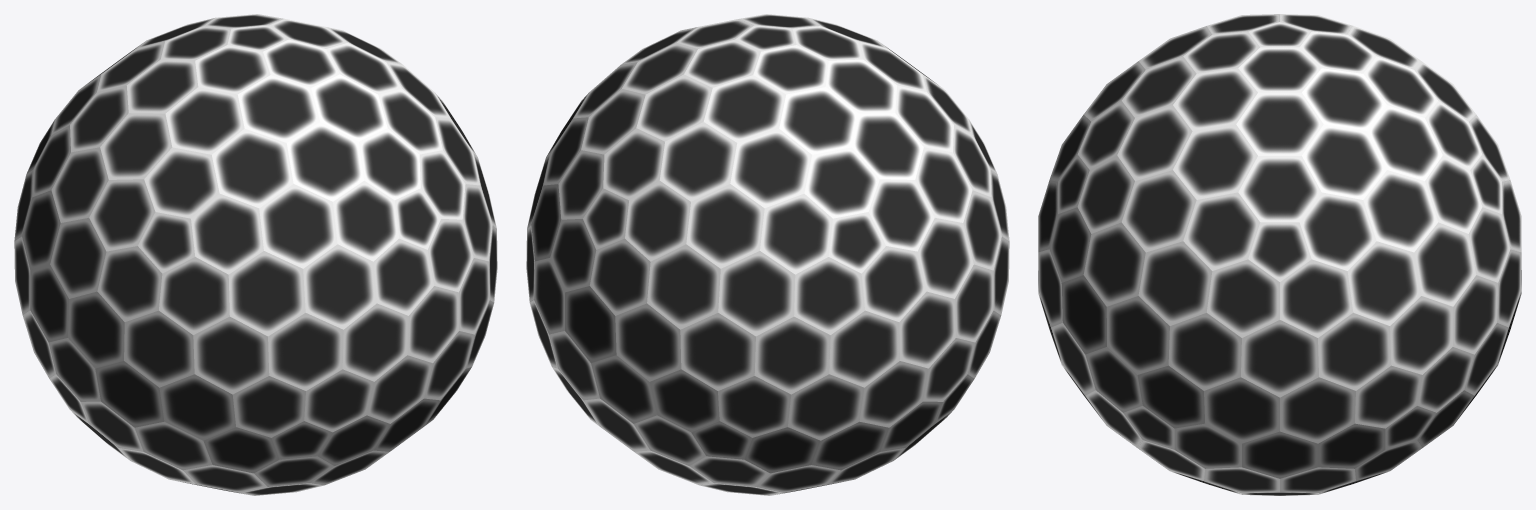
The model's file is Shield.fbx.
The picture shows the model from 3 angles, left to right: view 1: azimuth 30°, elevation 25°; view 2: azimuth 150°, elevation 25°; view 3: azimuth 270°, elevation 25°; orthographic projection.
Visible parts, largest first — view 1: Shield; view 2: Shield; view 3: Shield.
Boxes of the visible parts, x1=… form: Shield: x1=14, y1=14, x2=497, y2=495; Shield: x1=526, y1=14, x2=1009, y2=495; Shield: x1=1038, y1=14, x2=1521, y2=495.
Bounding box in the file's own units: 3.5 × 3.5 × 3.5.
